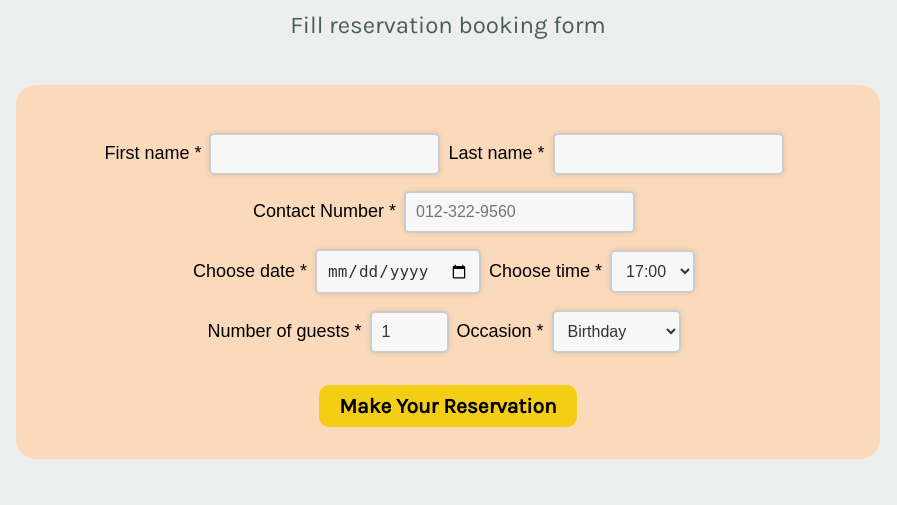
Scenario: Booking form › should display an error message when number of guests field's value is more than 10
Type "11" into the number field labelled "Number of guests *" at (409, 332), box [370, 311, 448, 353]
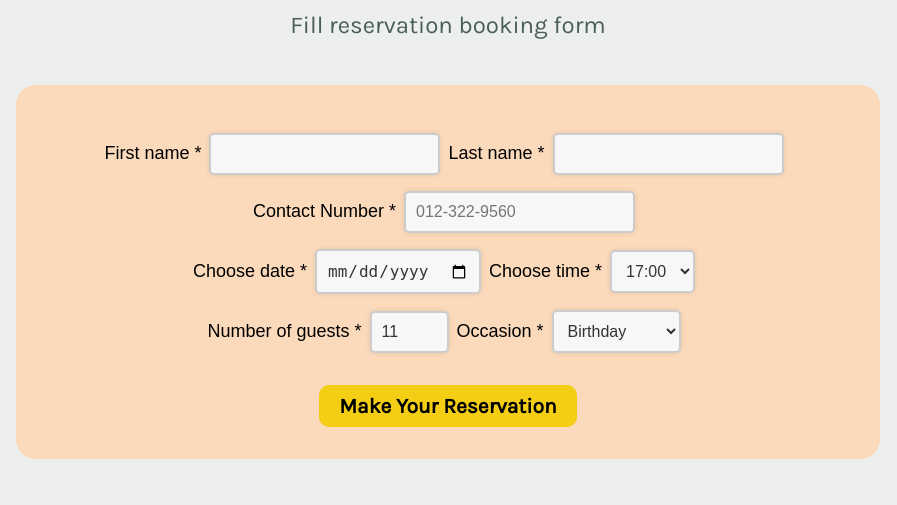
Leave the number field labelled "Number of guests *", box [370, 311, 448, 353]
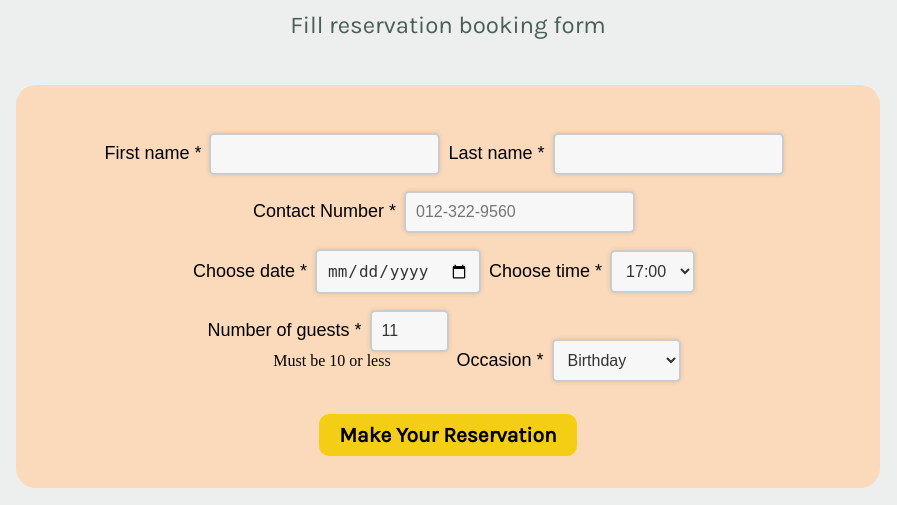
Expected: the text "Must be 10 or less" is shown, [273, 352, 391, 369]
